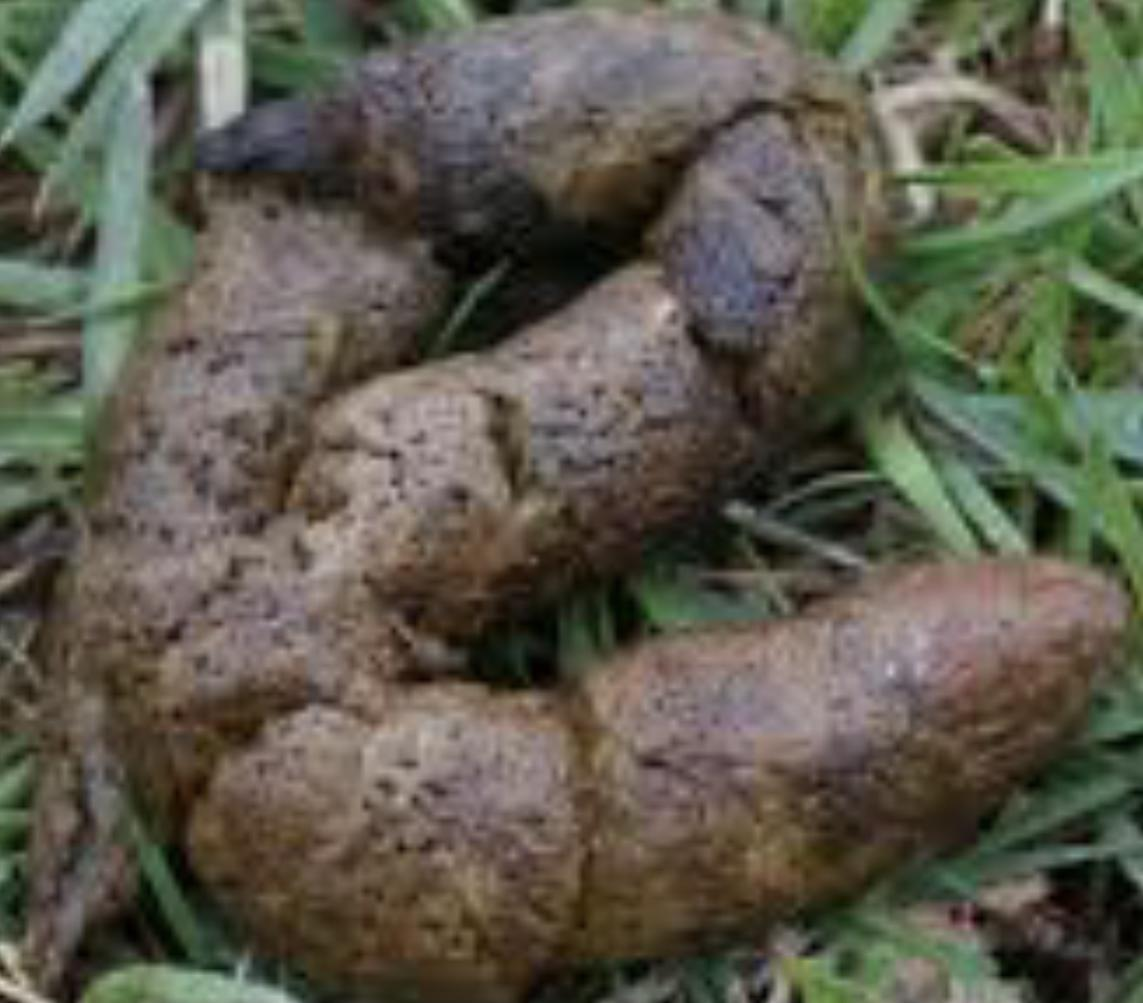dog_poop: (0, 1, 1142, 1002)
